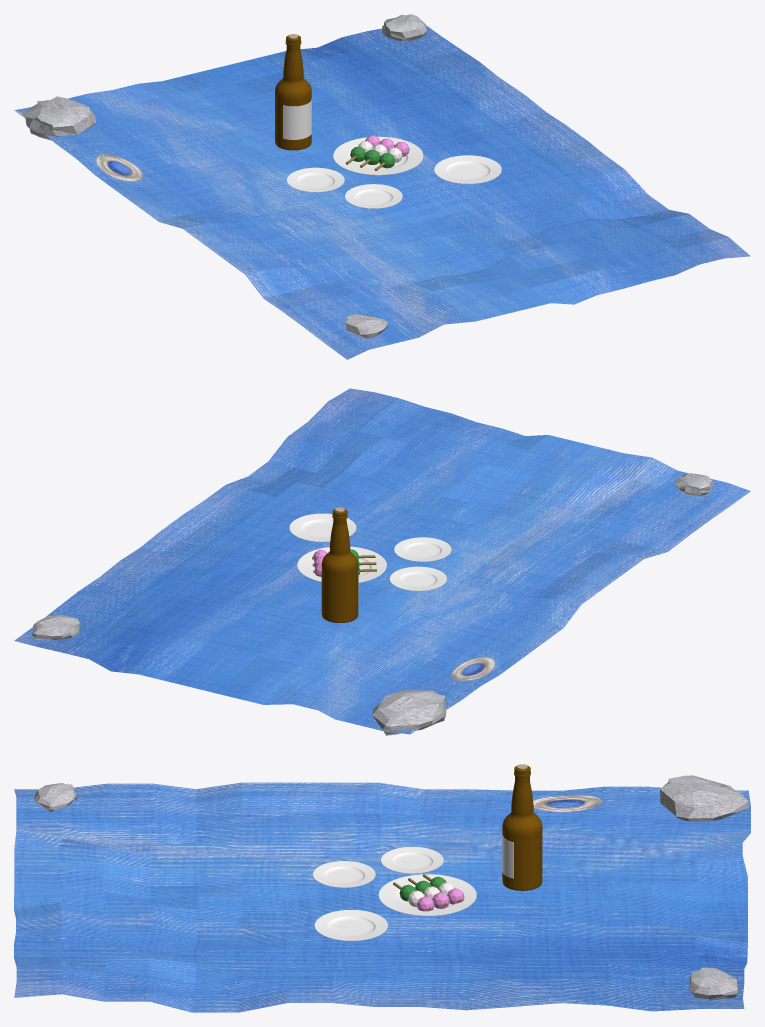
The model's file is bluesi-to 1.glb.
3 renders of one model, top to bottom at view 1: azimuth 30°, elevation 25°; view 2: azimuth 150°, elevation 25°; view 3: azimuth 270°, elevation 25°, orthographic. The views are drawn at different scales.
Visible parts, largest first — view 1: 平面; view 2: 平面; view 3: 平面.
Boxes of the visible parts, x1,y1,x2,y2 form: 平面: (14, 14, 750, 359); 平面: (14, 388, 750, 735); 平面: (14, 764, 750, 1012).
Bounding box in the file's own units: 2.05 × 0.5742 × 2.91.
10 materials, 2 textured.
